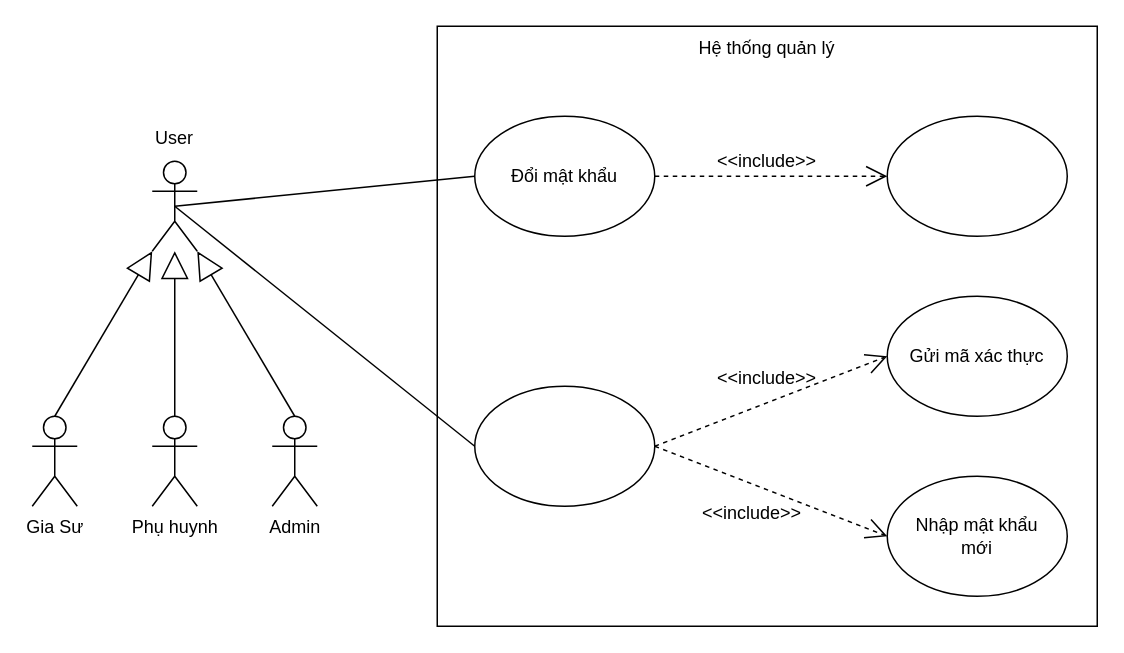
This 1124x653 diagram has some shape labels left out. The shapes that lost their labels are listed below. From the top down, each one's centre as x and y in pixels, then its label:
At point 976,175: "Đăng nhập".
At point 564,445: "Quên mật khẩu".
